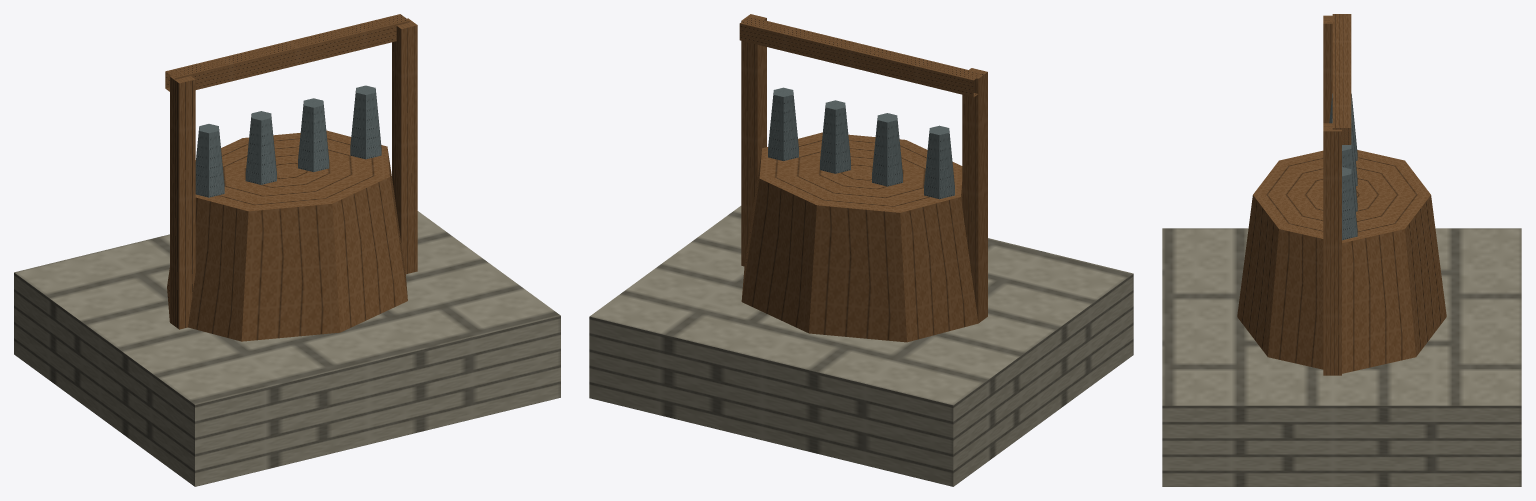
File: military-MUSIC-1-lod0.glb
3 views of the same model, side by side, from view 1: azimuth 30°, elevation 25°; view 2: azimuth 150°, elevation 25°; view 3: azimuth 270°, elevation 25° (orthographic).
Bounding box in the file's own units: 0.56 × 0.4825 × 0.48.
1 material, 1 textured.
